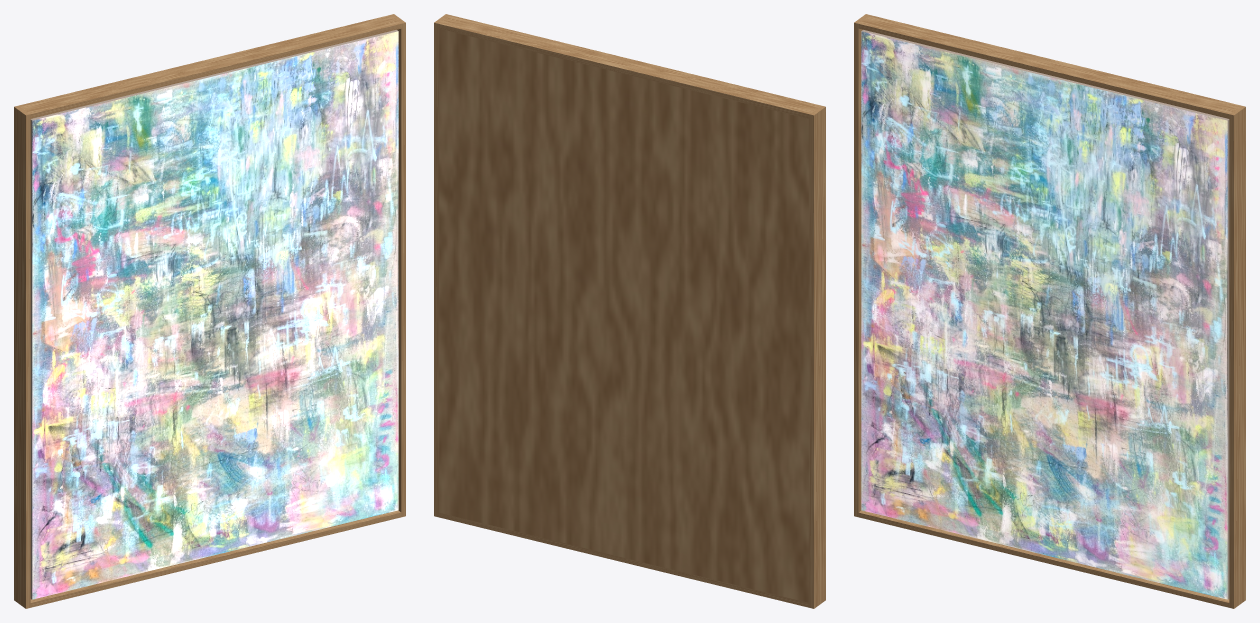
File: swimming-in-the-rain-oak.glb
3 renders of one model, left to right at view 1: azimuth 30°, elevation 25°; view 2: azimuth 150°, elevation 25°; view 3: azimuth 330°, elevation 25°, orthographic.
Parts seen in each view (by area): view 1: painting; view 2: painting; view 3: painting.
Part boxes in pixels (x1=…): painting: x1=14, y1=14, x2=405, y2=608; painting: x1=434, y1=14, x2=825, y2=608; painting: x1=854, y1=14, x2=1245, y2=608.
Bounding box in the file's own units: 0.83 × 1.03 × 0.045.
3 materials, 2 textured.
